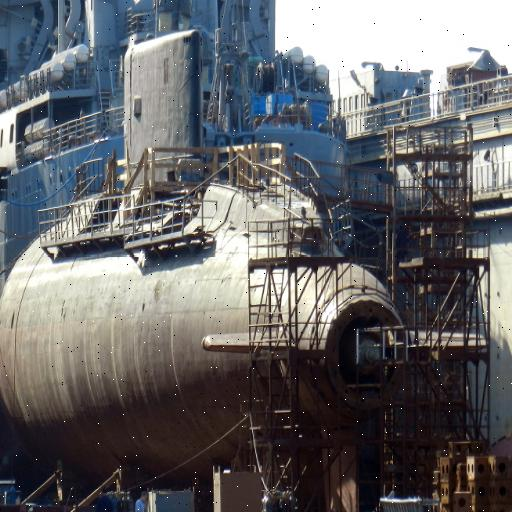submarine: (1, 19, 392, 457)
